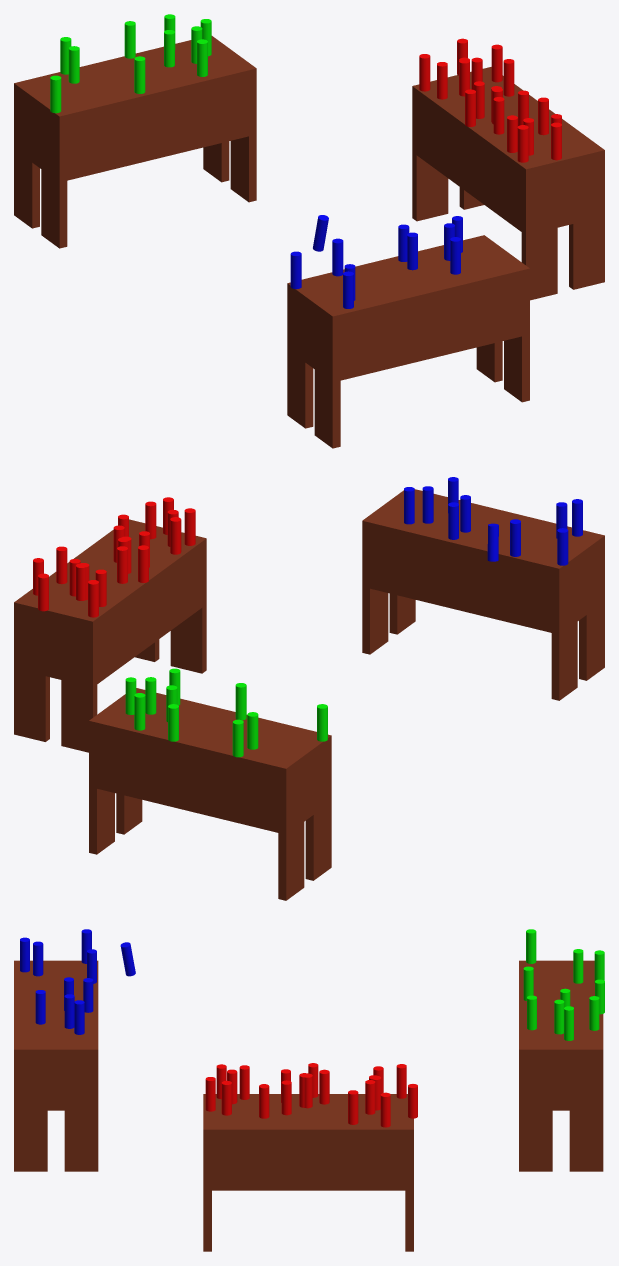
File: clutter_pic.dae
3 renders of one model, top to bottom at view 1: azimuth 30°, elevation 25°; view 2: azimuth 150°, elevation 25°; view 3: azimuth 270°, elevation 25°, orthographic. The views are drawn at different scales.
Visible parts, largest first — view 1: base (×14); view 2: base (×14); view 3: base (×9).
Part boxes in pixels (x1,y1,x2,y2): base (×14): [14, 36, 604, 448]; base (×14): [14, 489, 604, 900]; base (×9): [14, 960, 603, 1251].
Bounding box in the file's own units: 2.39 × 3.51 × 1.06.
